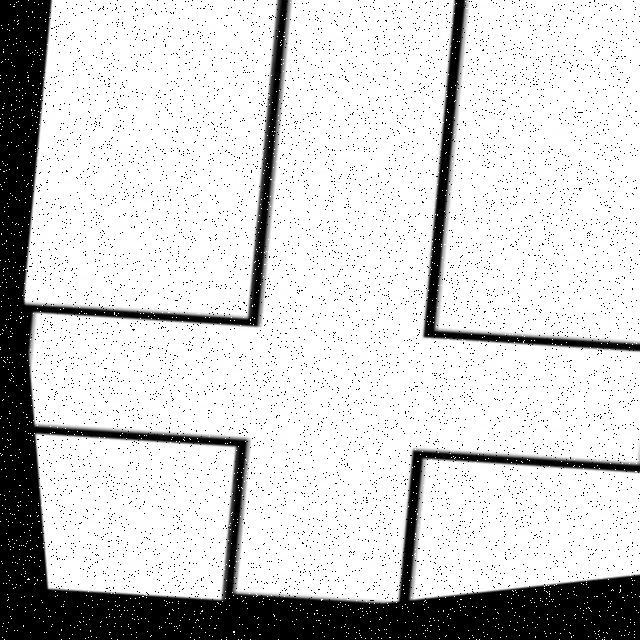cross: (26, 186, 640, 600)
